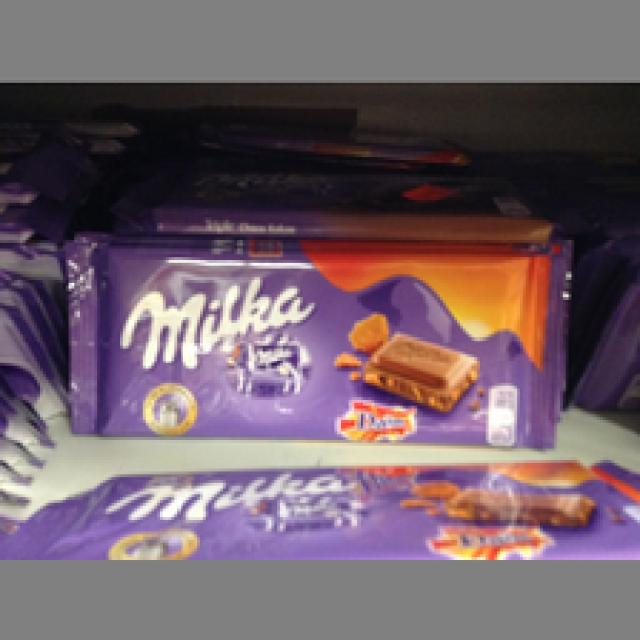groceries: (54, 232, 569, 448), (0, 454, 634, 557)
